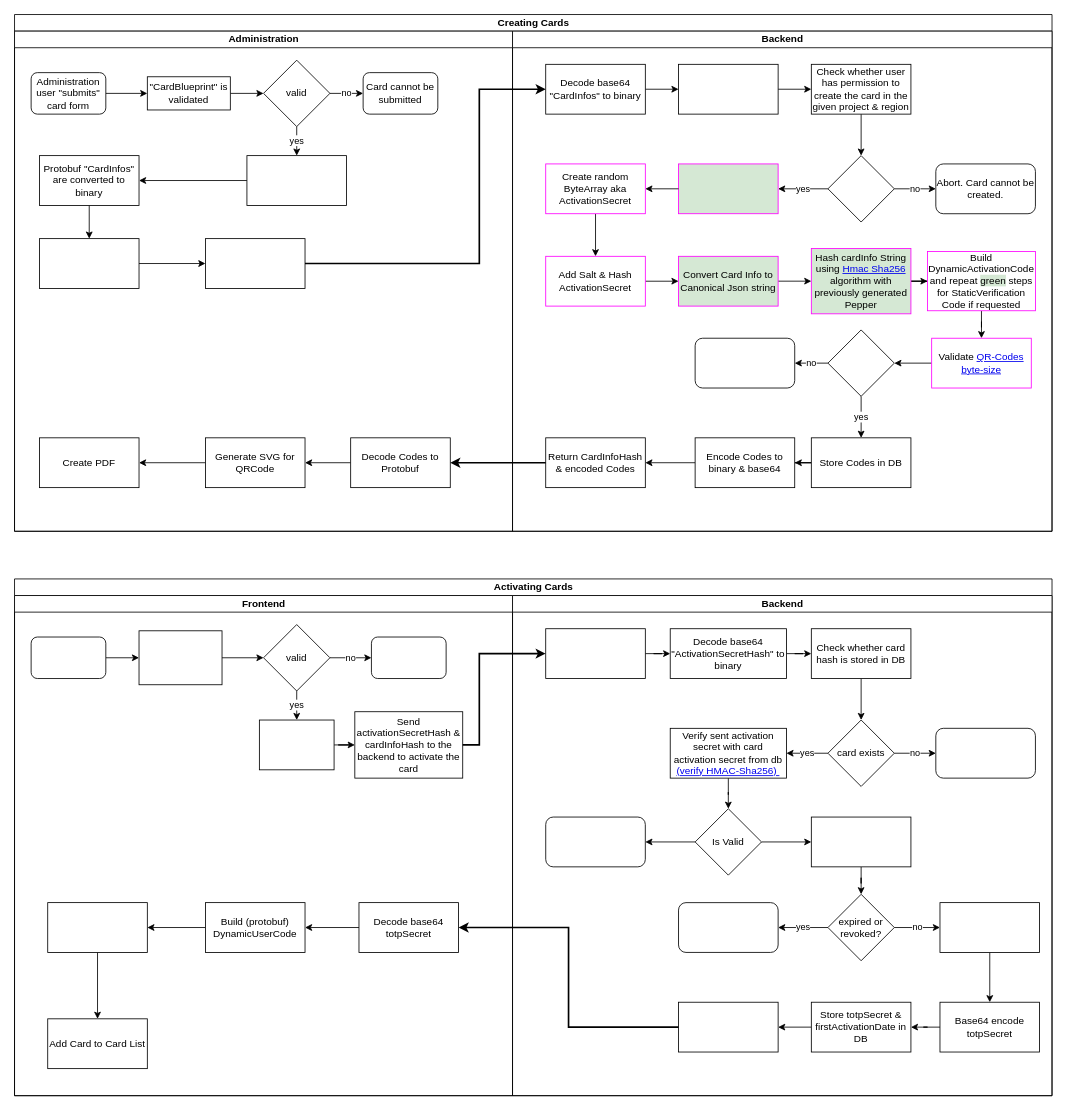
Image size: 1067x1111. Some labels were removed from this diagram. Each missing label, with the centre of its shape:
"CardBlueprints" are converted to protobuf CardInfos: (296,180)
Abort. Card cannot be activated (Invalid activation secret Hash): (595,841)
Abort. Card cannot be activated (Invalid card info Hash).: (985,752)
Abort. Card cannot be activated as it is revoked or expired.: (728,927)
Activation Code is Parsed (ByteList to Protobuf) & validated: (180,657)
Base64 encode activationSecret: (296,744)
Binary "CardInfos" are converted to base64 encoded string: (89,263)
Card cannot be activated: (408,657)
Check whether card is revoked or expired: (860,841)
Create random ByteArray aka Pepper: (728,188)
Decode base64 "CardInfoHash" to binary: (595,653)
Decode binary "CardInfos" to Protobuf CardInfo: (728,88)
generate Totp secret (HMAC-Sha256): (989,927)
has permission: (860,188)
Length Valid: (860,362)
List of encoded strings & flag createStatic cards is sent to backend: (255,263)
Return base64 totpSecret: (728,1026)
Store Dynamic UserCode in secure_storage on device: (97,927)
throw Error & rollback: (744,362)
User scans a QR-Code with the app: (68,657)
